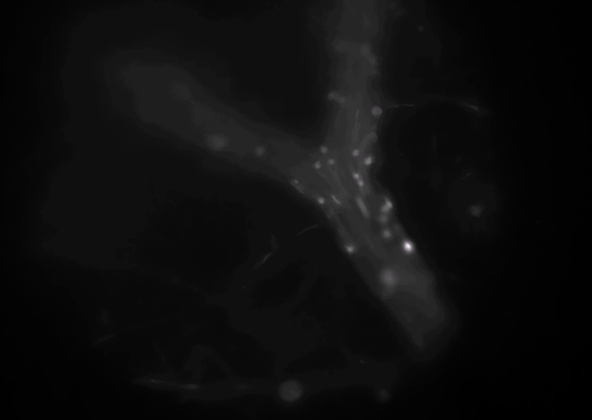cell: (402, 239, 416, 253), (371, 105, 385, 119), (348, 145, 362, 159), (362, 155, 376, 169), (317, 142, 331, 156), (311, 158, 325, 172), (324, 154, 338, 168), (325, 88, 339, 102), (350, 169, 364, 183), (333, 91, 347, 105), (353, 177, 367, 191), (344, 241, 358, 255), (382, 271, 396, 285), (380, 227, 394, 241), (382, 199, 396, 213), (377, 210, 391, 224), (379, 202, 393, 216), (313, 195, 327, 209), (289, 173, 303, 187), (253, 144, 267, 158), (208, 136, 222, 150), (358, 43, 372, 57), (366, 53, 380, 67), (333, 39, 347, 53), (367, 130, 381, 144), (328, 193, 342, 207)
